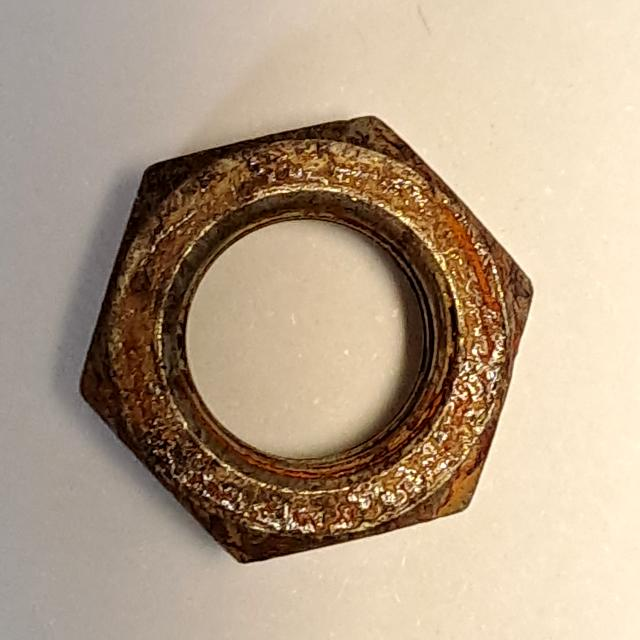Rust: (66, 102, 547, 578)
